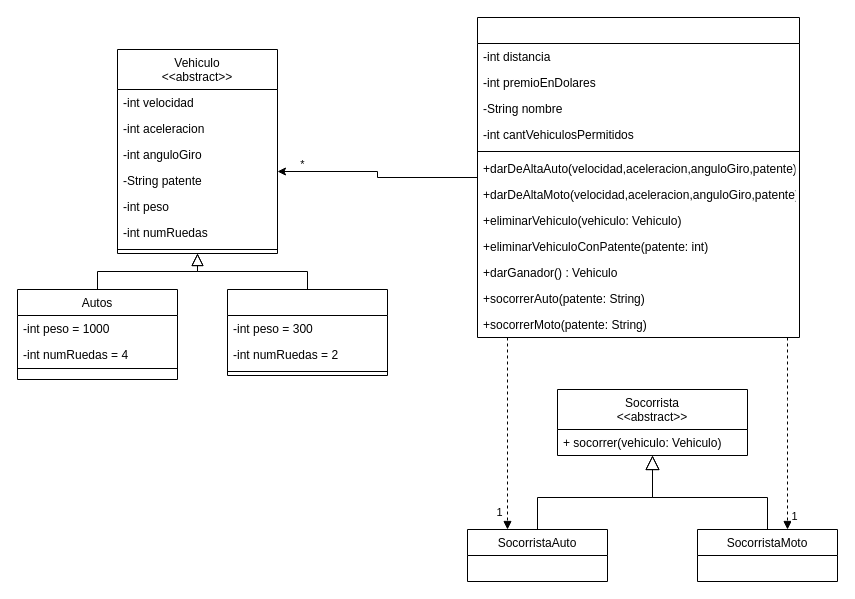
Image size: 855x599. Some labels were removed from this diagram. Here are the shapes that lost their labels. From the top down, the box of each, then its label:
(476, 16, 800, 338): Carrera
(226, 288, 388, 376): Motos
